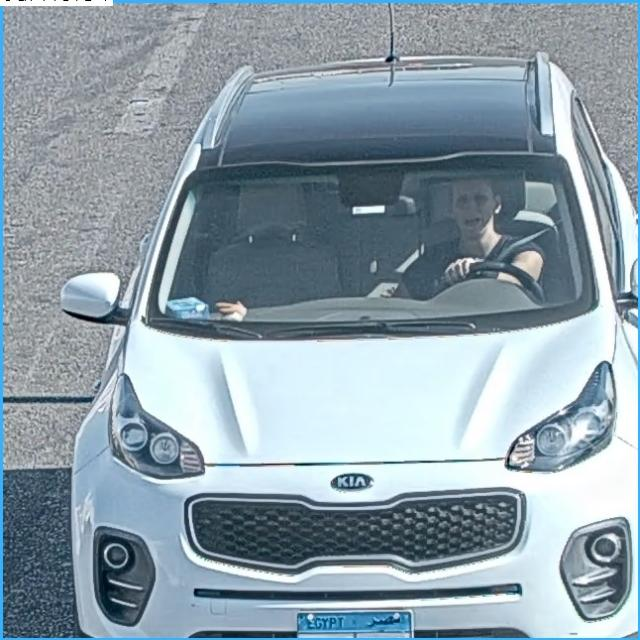windshield: (150, 158, 592, 314)
